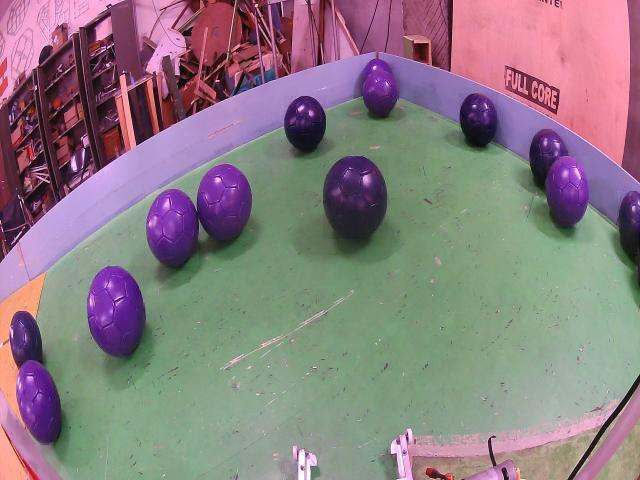jambhalya: (87, 266, 144, 357), (196, 164, 251, 240), (146, 190, 199, 266), (16, 362, 61, 444), (546, 156, 589, 226), (364, 70, 398, 116), (363, 57, 392, 82)
kaalyya: (324, 156, 388, 239), (284, 96, 326, 151), (530, 128, 567, 187), (460, 93, 498, 147), (9, 312, 42, 369), (619, 192, 639, 254)
